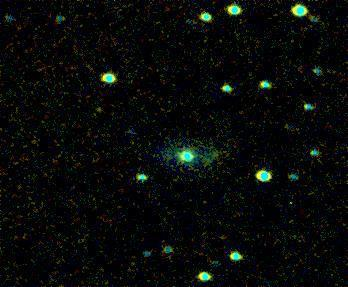star: (85, 95, 115, 125)
